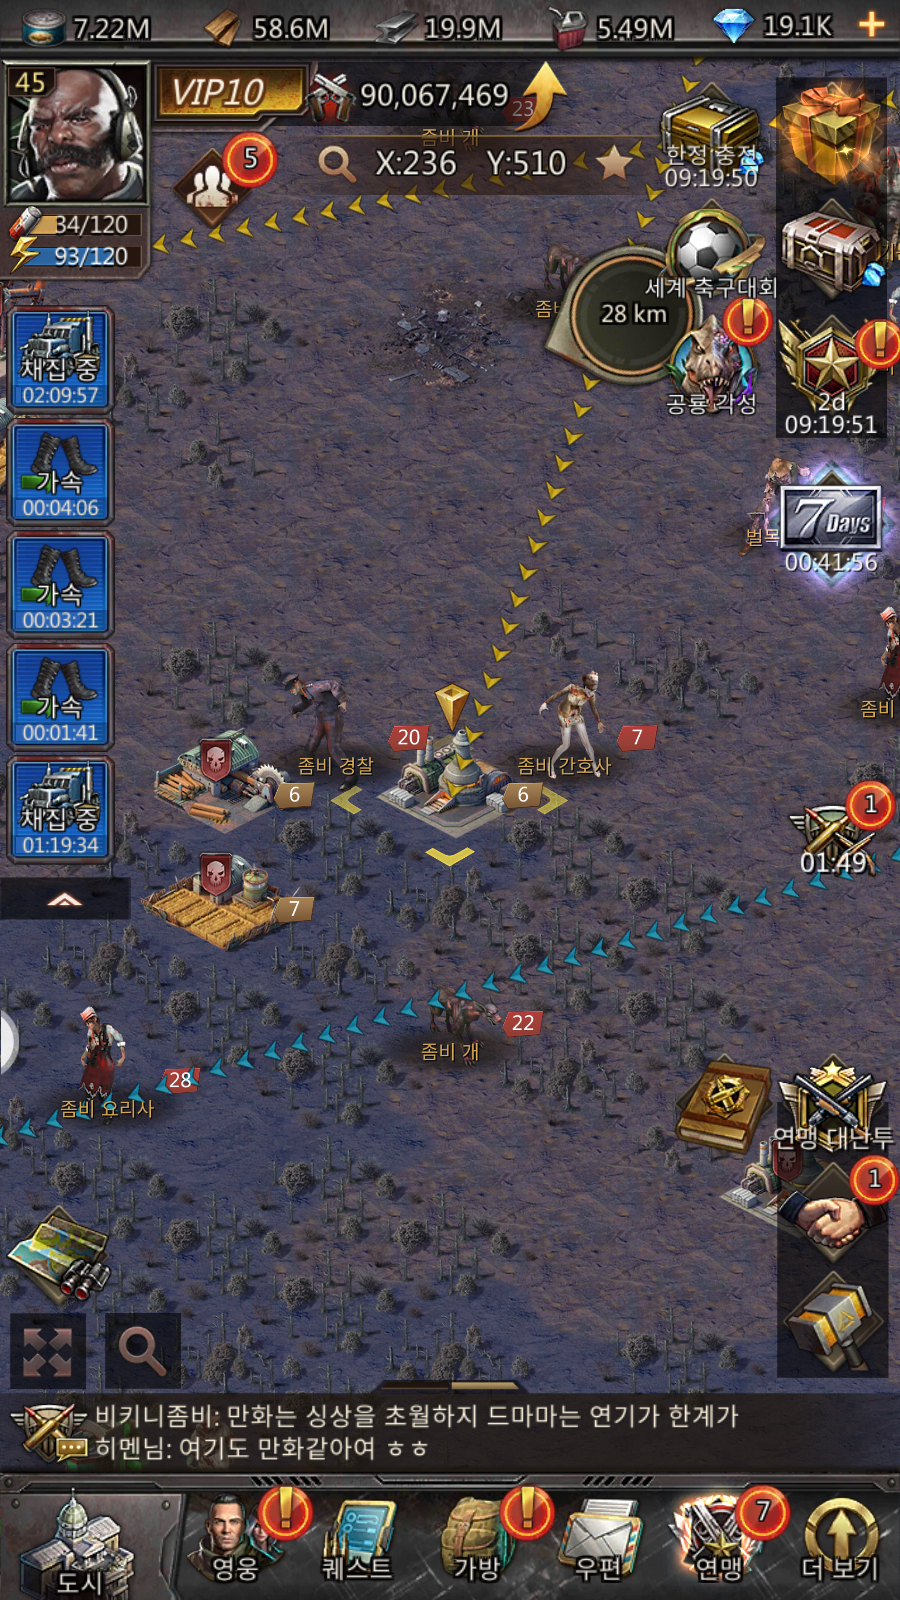city: (13, 1491, 170, 1600)
occupied_steel: (312, 654, 583, 891)
open_panel: (93, 1295, 193, 1400)
troops_cnt_5: (159, 119, 291, 244)
